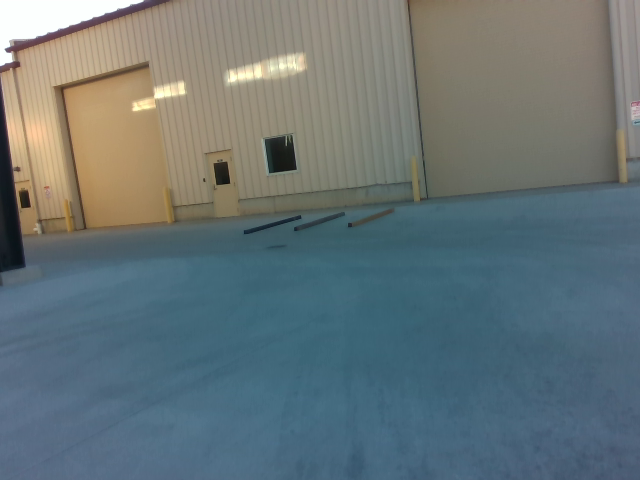Dunnage: (238, 203, 404, 240)
